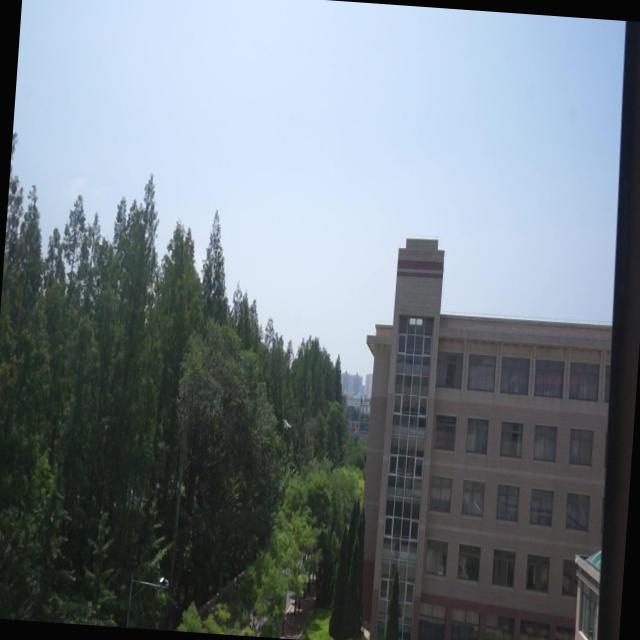drone: (278, 414, 293, 434)
